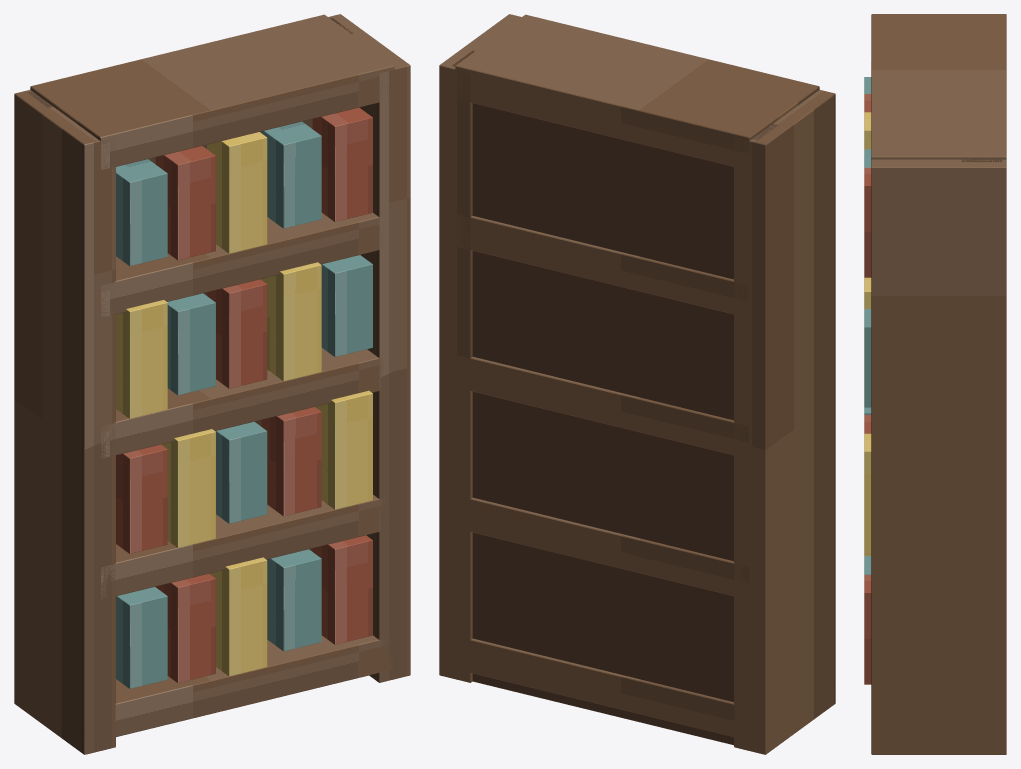
File: normal_bookcase.glb
3 views of the same model, side by side, from view 1: azimuth 30°, elevation 25°; view 2: azimuth 150°, elevation 25°; view 3: azimuth 270°, elevation 25° (orthographic). The views are drawn at different scales.
Parts seen in each view (by area): view 1: BookcaseSide-0.46, BookcaseShelf_4, BookcaseSide0.46, BookcaseShelf_0, BookcaseShelf_3, BookcaseShelf_2, BookcaseShelf_1, Book_2_3, Book_3_2, Book_0_2, Book_1_4, Book_2_0 (+15 smaller); view 2: BookcaseBack, BookcaseSide-0.46, BookcaseShelf_4, BookcaseSide0.46, BookcaseShelf_2, BookcaseShelf_3, BookcaseShelf_1, BookcaseShelf_0; view 3: BookcaseSide0.46, BookcaseShelf_4, Book_1_4, Book_3_4, Book_0_4, Book_2_4, BookcaseSide-0.46, Book_3_2.
Part boxes in pixels (x1,y1,x2,y2): BookcaseSide-0.46: (14,90,115,754); BookcaseShelf_4: (30,14,394,169); BookcaseSide0.46: (328,14,410,682); BookcaseShelf_0: (115,635,393,736); BookcaseShelf_3: (101,213,381,317); BookcaseShelf_2: (101,348,385,458); BookcaseShelf_1: (101,495,388,599); Book_2_3: (261,262,321,381); Book_3_2: (207,132,267,253); Book_0_2: (209,557,267,676); Book_1_4: (315,390,372,509); Book_2_0: (116,300,167,418); BookcaseBack: (452,50,778,745); BookcaseSide-0.46: (734,90,835,754); BookcaseShelf_4: (455,14,819,169); BookcaseSide0.46: (439,14,521,682); BookcaseShelf_2: (455,355,748,458); BookcaseShelf_3: (455,214,748,317); BookcaseShelf_1: (455,496,748,599); BookcaseShelf_0: (455,637,734,736); BookcaseSide0.46: (871,159,1006,754); BookcaseShelf_4: (871,18,1006,159); Book_1_4: (864,433,871,554); Book_3_4: (864,167,871,277); Book_0_4: (864,575,871,684); Book_2_4: (864,309,871,407); BookcaseSide-0.46: (871,14,1006,18); Book_3_2: (864,112,871,149).
Size of the model in its own units: 1.02 by 1.83 by 0.4.
Materials: 1 (1 with a texture image).
